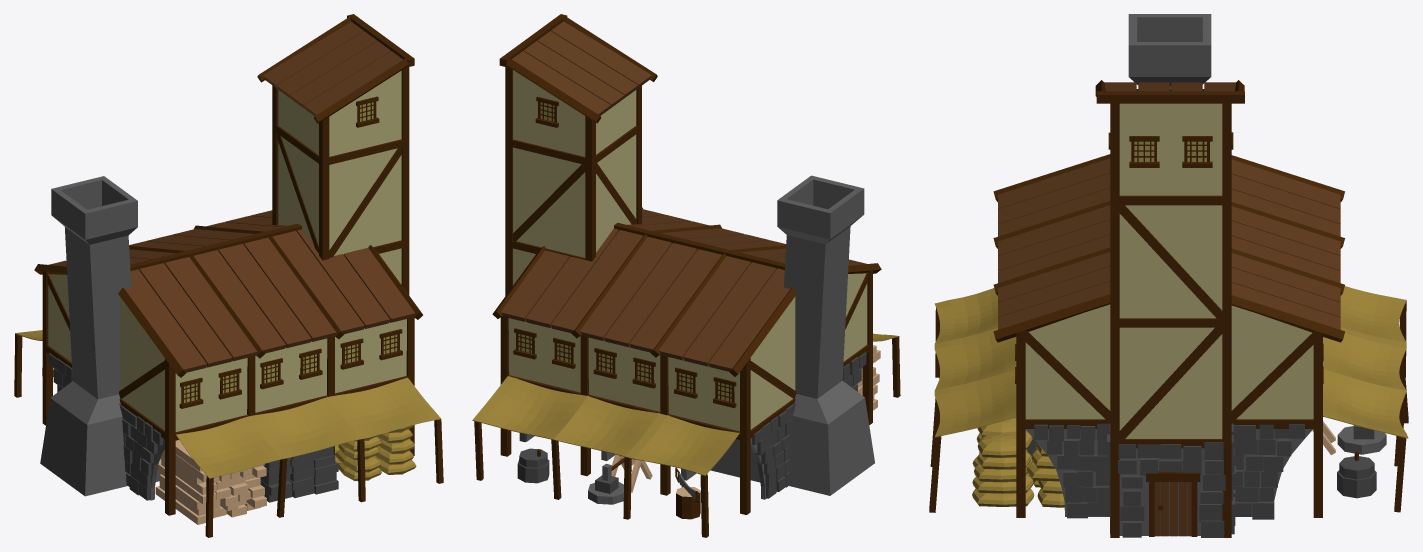
Rendered from TownHall.fbx.
3 renders of one model, left to right at view 1: azimuth 30°, elevation 25°; view 2: azimuth 150°, elevation 25°; view 3: azimuth 270°, elevation 25°, orthographic. The views are drawn at different scales.
Visible parts, largest first — view 1: Building.002, StorageWood 2, StorageWood 1, StorageStone 1, StorageWood 3, StorageFood 2, StorageStone 2, StorageFood 1, StorageFood 3, StorageWood 4, StorageStone 3; view 2: Building.002, Cylinder.004, Down, Cylinder.001; view 3: Building.002, StorageFood 3, StorageFood 4, StorageFood 1, StorageFood 2, Cylinder.001, Down, Top.001.
Part boxes in pixels (<box>): Building.002: <box>14,14,443,537</box>; StorageWood 2: <box>157,459,264,509</box>; StorageWood 1: <box>155,482,266,524</box>; StorageStone 1: <box>260,472,338,502</box>; StorageWood 3: <box>161,453,266,494</box>; StorageFood 2: <box>335,444,413,472</box>; StorageStone 2: <box>260,455,338,485</box>; StorageFood 1: <box>335,445,416,480</box>; StorageFood 3: <box>377,429,414,453</box>; StorageWood 4: <box>163,440,264,482</box>; StorageStone 3: <box>263,446,334,471</box>; Building.002: <box>472,14,900,537</box>; Cylinder.004: <box>676,487,700,519</box>; Down: <box>517,459,549,483</box>; Cylinder.001: <box>588,482,623,504</box>; Building.002: <box>929,14,1408,537</box>; StorageFood 3: <box>974,449,1059,482</box>; StorageFood 4: <box>976,417,1047,457</box>; StorageFood 1: <box>972,474,1064,507</box>; StorageFood 2: <box>972,447,1062,493</box>; Cylinder.001: <box>1337,426,1386,454</box>; Down: <box>1337,470,1376,498</box>; Top.001: <box>1339,452,1374,479</box>.
Size of the model in its own units: 1599 by 1736 by 1691.
